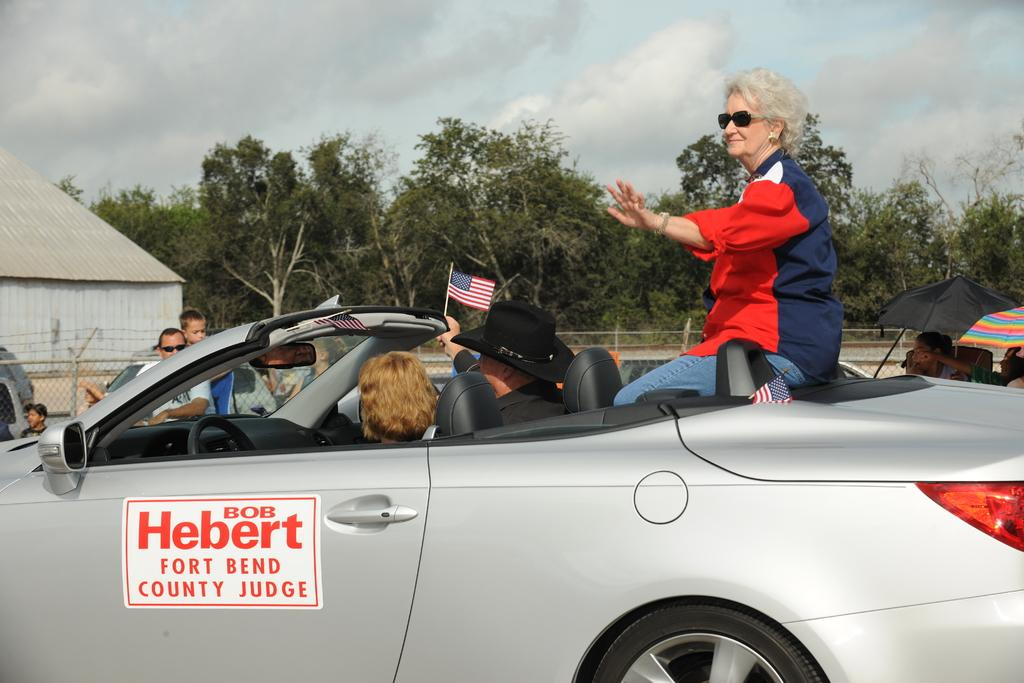Hat: (450, 298, 576, 383)
